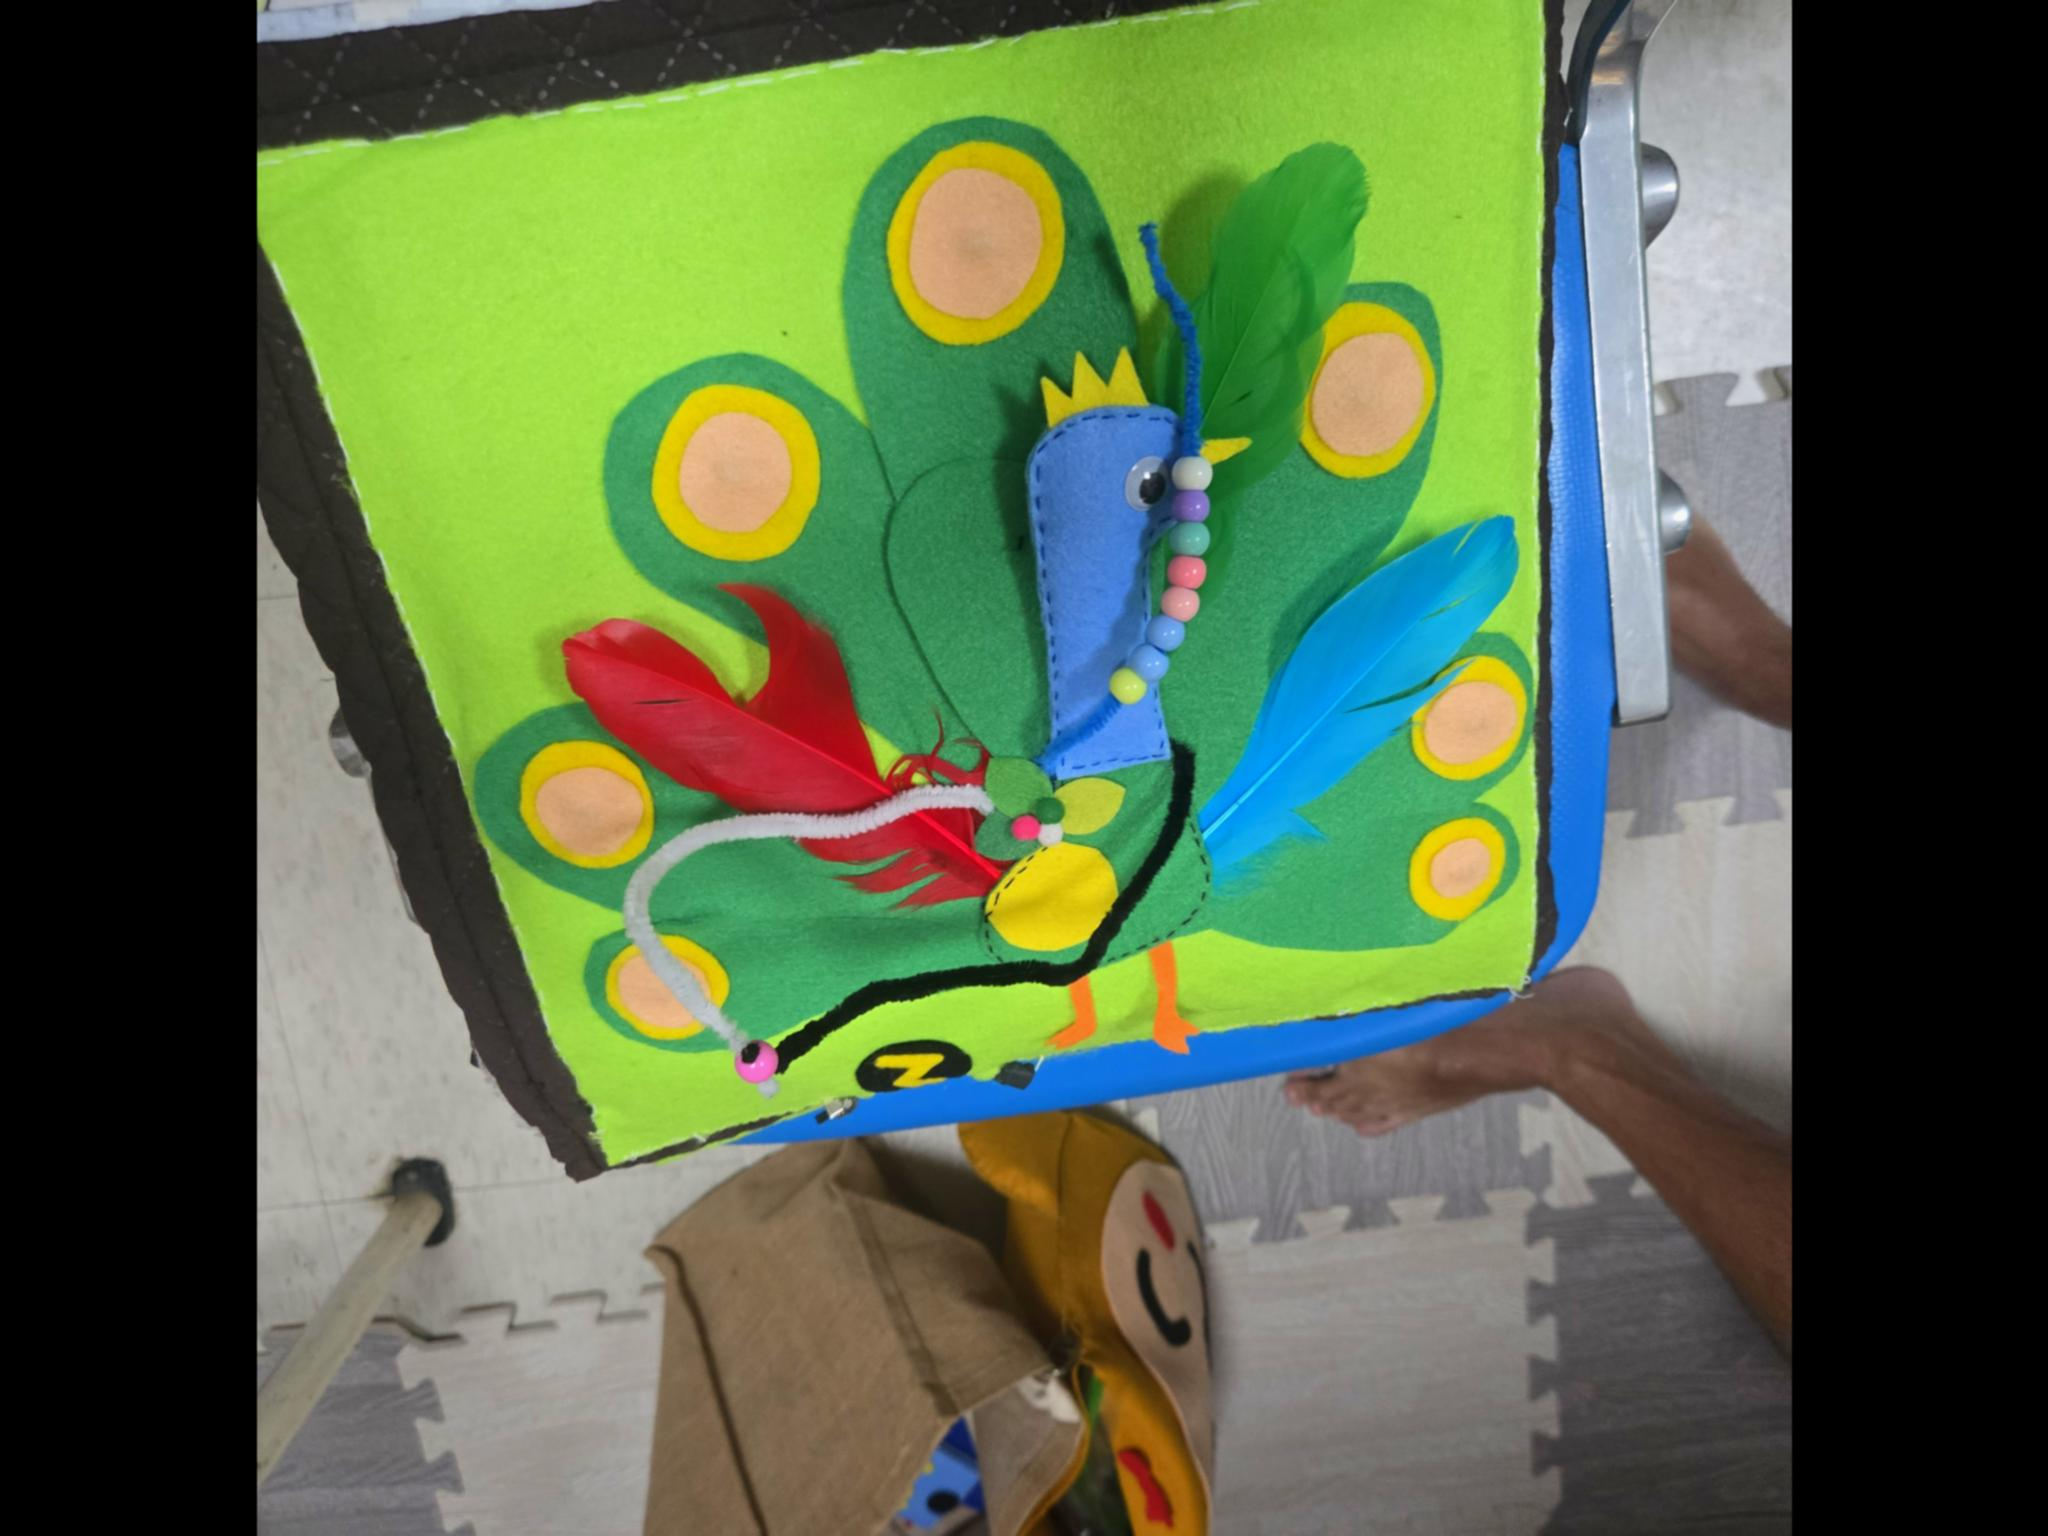bead: (719, 1028, 793, 1096), (1168, 481, 1213, 528), (1098, 653, 1137, 707), (1168, 452, 1219, 490), (1169, 521, 1213, 563), (1164, 578, 1203, 624), (1168, 544, 1206, 584), (1130, 647, 1172, 681), (1145, 613, 1187, 645)
